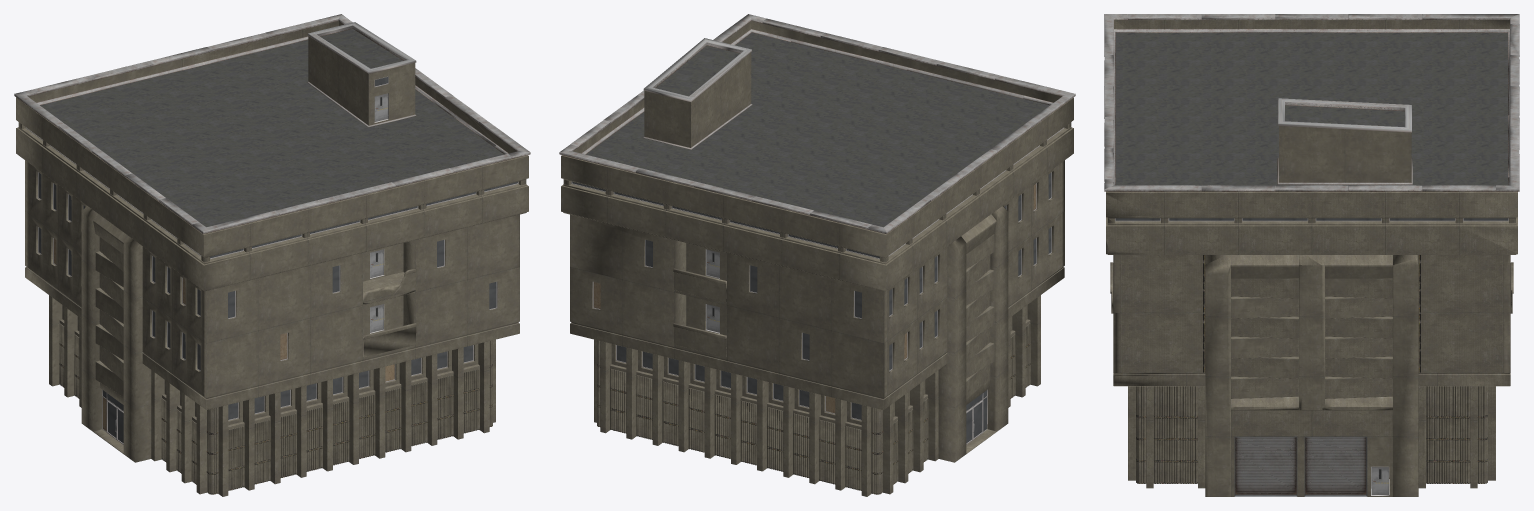
The model's file is city_hall_exterior.glb.
3 renders of one model, left to right at view 1: azimuth 30°, elevation 25°; view 2: azimuth 150°, elevation 25°; view 3: azimuth 270°, elevation 25°, orthographic. The views are drawn at different scales.
Parts seen in each view (by area): view 1: city_hall_exterior_LOD0; view 2: city_hall_exterior_LOD0; view 3: city_hall_exterior_LOD0.
Part boxes in pixels (left/top/right/bottom): city_hall_exterior_LOD0: left=14, top=14, right=530, bottom=496; city_hall_exterior_LOD0: left=559, top=14, right=1075, bottom=496; city_hall_exterior_LOD0: left=1104, top=14, right=1519, bottom=496.
Bounding box in the file's own units: 28.25 × 26.55 × 28.2.
Materials: 9 (9 with a texture image).
